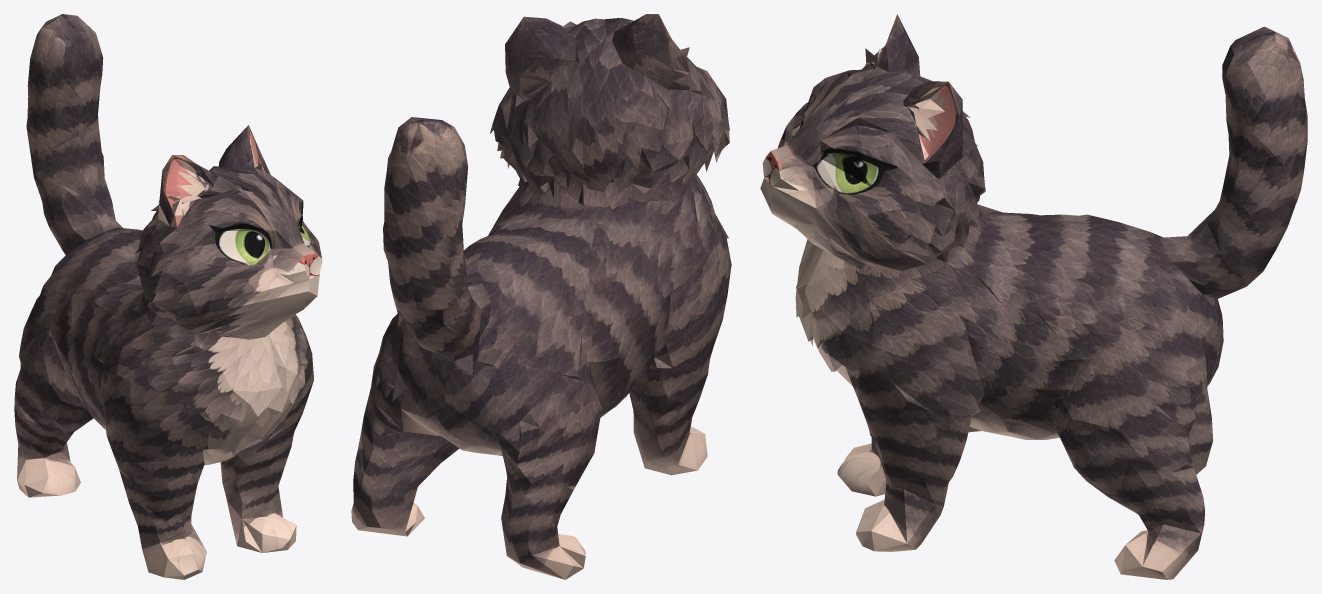
File: cat.glb
The picture shows the model from 3 angles, left to right: view 1: azimuth 30°, elevation 25°; view 2: azimuth 150°, elevation 25°; view 3: azimuth 270°, elevation 25°; orthographic projection. The views are drawn at different scales.
Size of the model in its own units: 0.2727 by 0.5 by 0.5057.
1 material, 1 textured.
